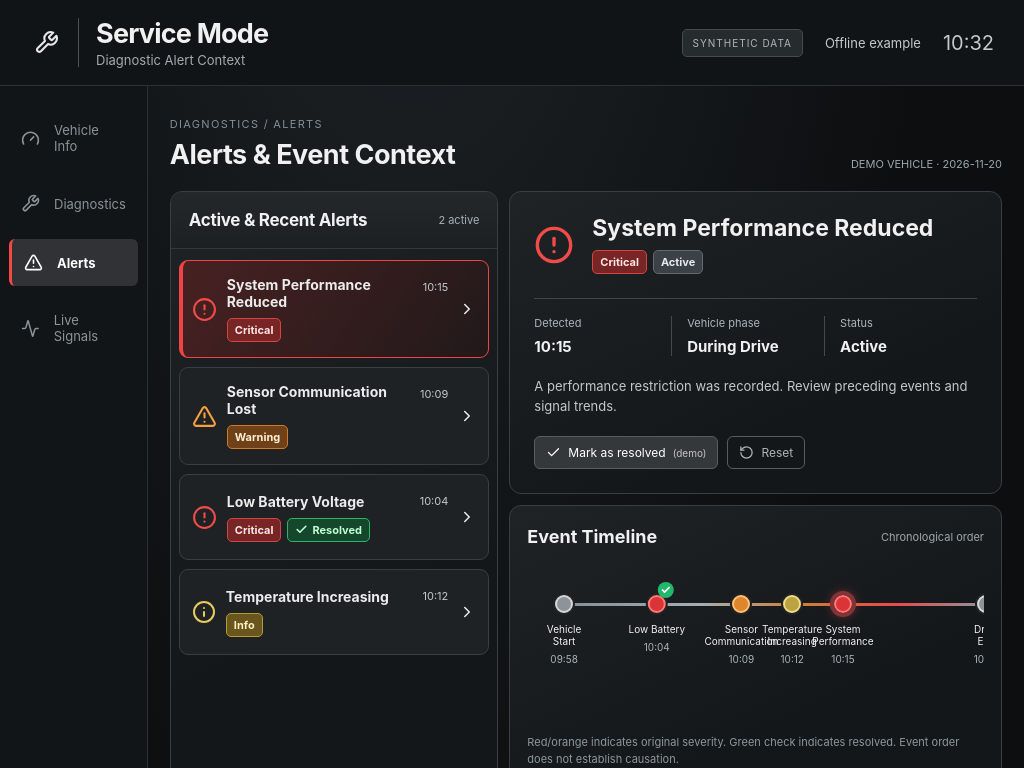
Service Mode UI concept V2 › marks an active alert as resolved without removing it
Click the button "Mark as resolved (demo)". click: (626, 452)
box: [534,436,718,469]
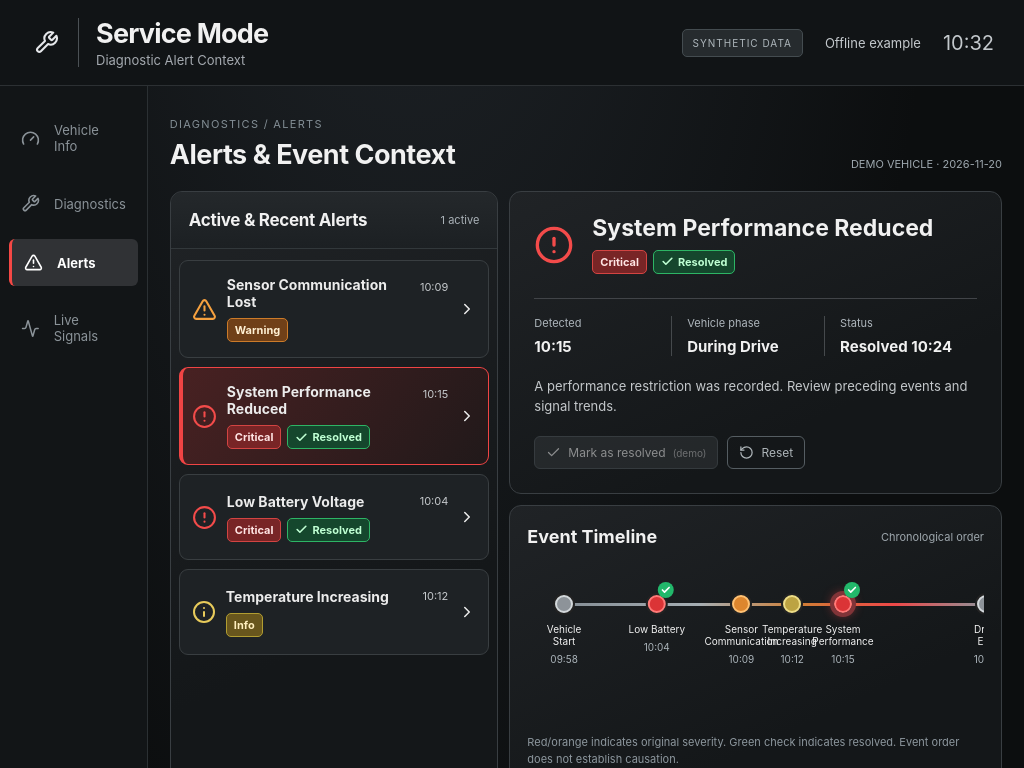
Expected: the text "System Performance Reduced" is shown, [227,383,371,417]
Expected: the text "Resolved 10:24" is shown, [840,337,962,356]
